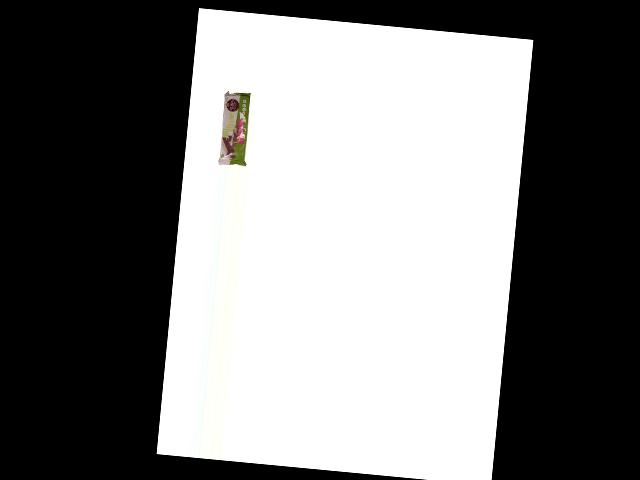chocolate: (215, 88, 252, 166)
